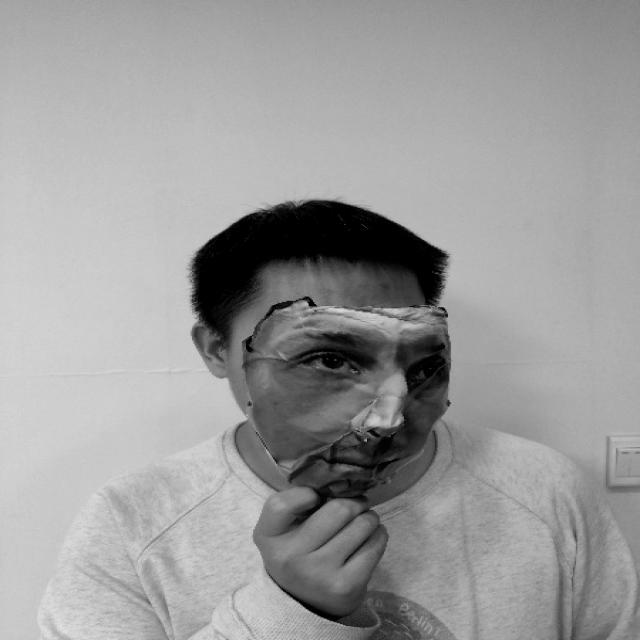fake: (160, 201, 466, 501)
